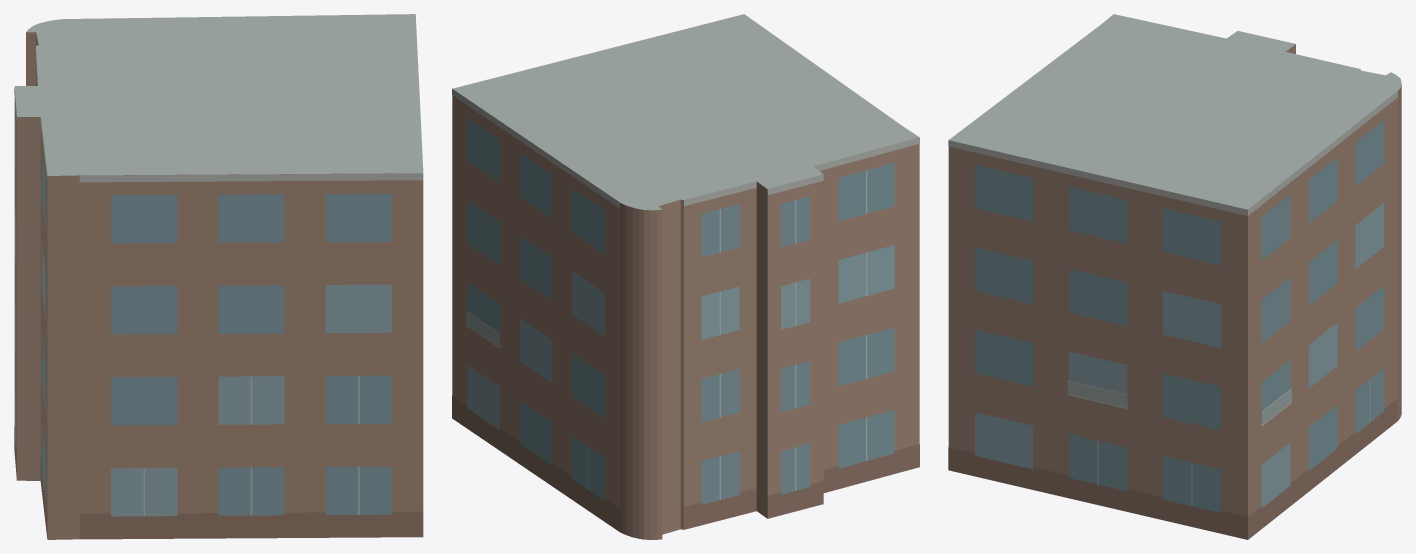
File: survey-upis-32659051.glb
The picture shows the model from 3 angles, left to right: view 1: azimuth 30°, elevation 25°; view 2: azimuth 150°, elevation 25°; view 3: azimuth 270°, elevation 25°; orthographic projection. The views are drawn at different scales.
Parts seen in each view (by area): view 1: survey-upis-32659051.tmp; view 2: survey-upis-32659051.tmp; view 3: survey-upis-32659051.tmp.
Boxes of the visible parts, box(x1,y1,x2,y2) form: survey-upis-32659051.tmp: box(14, 14, 423, 539); survey-upis-32659051.tmp: box(452, 14, 919, 539); survey-upis-32659051.tmp: box(948, 14, 1401, 539).
Size of the model in its own units: 16.21 by 12.74 by 15.85.
